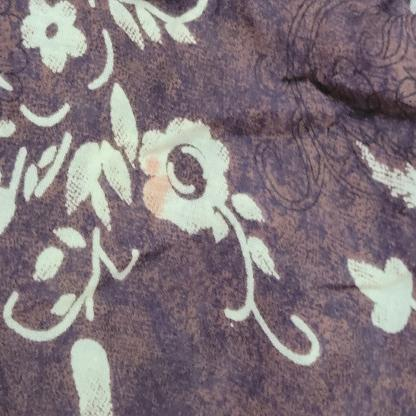spot: (140, 157, 178, 233)
